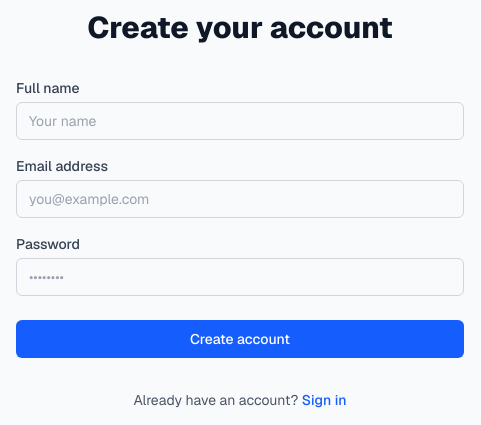
Test: Register Page › User Registration › should show loading state during registration
Type "new@example.com" into the field with placeholder "you@example.com" at coordinates (240, 199), box [16,180,464,218]
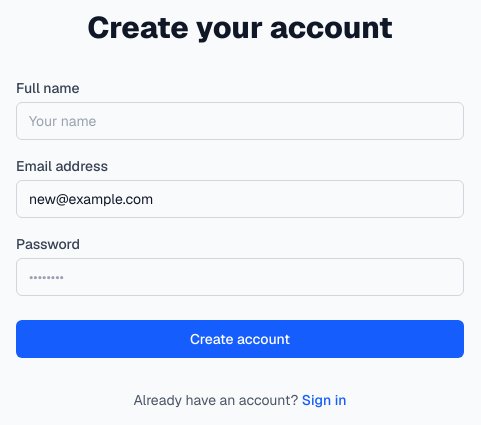
Type "New User" into the field with placeholder "Your name" at coordinates (240, 121), box [16,102,464,140]
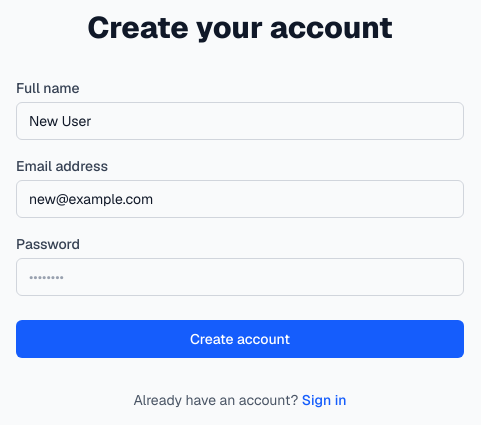
Type "password123" into the password field with placeholder "••••••••" at coordinates (240, 277), box [16,258,464,296]
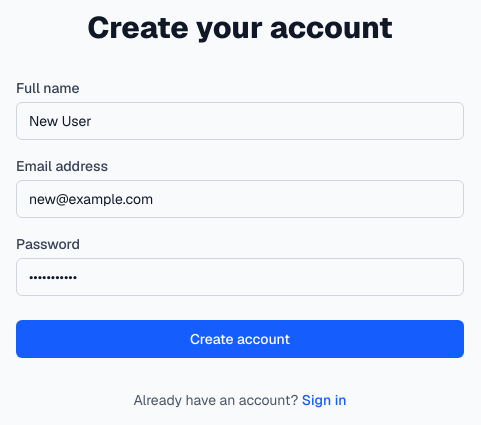
Click the button "Create account" at coordinates (240, 339), box [16,320,464,358]
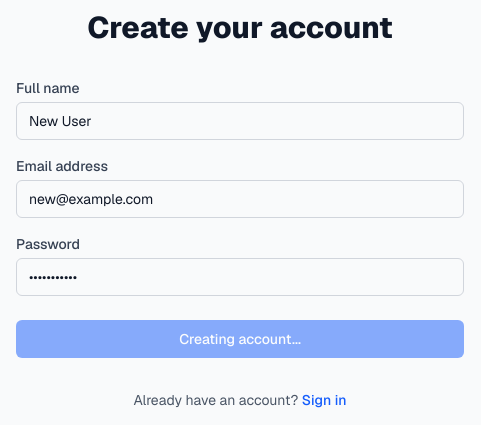
Now the button "Creating account..." is disabled, box [16,320,464,358]
